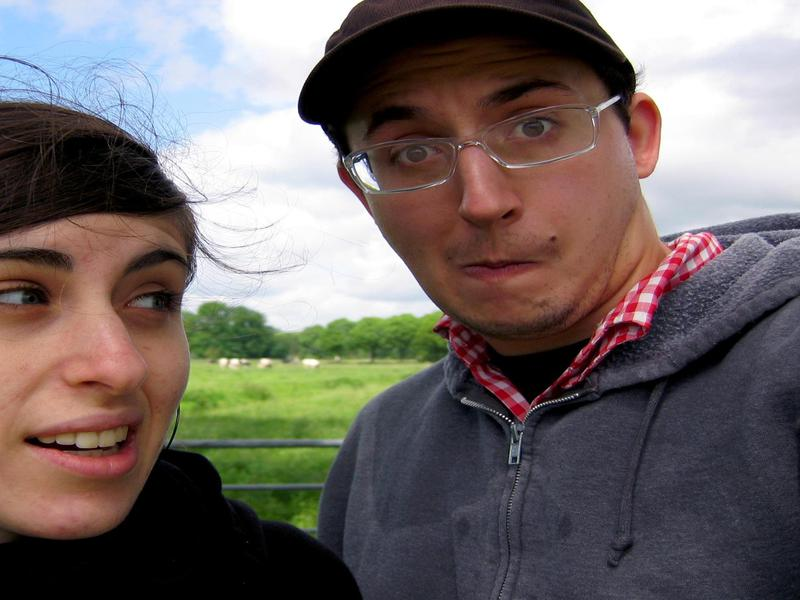person: (294, 1, 797, 600), (1, 97, 362, 600)
